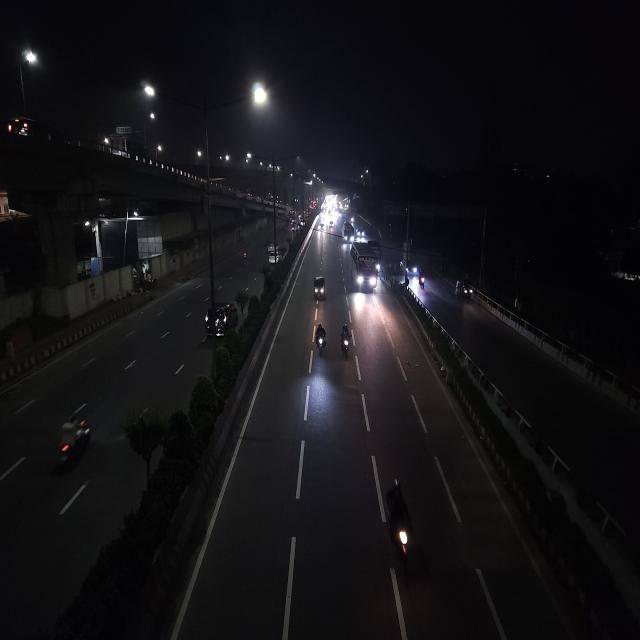bus: (349, 240, 380, 296), (342, 222, 354, 246)
car: (202, 294, 241, 342), (268, 250, 280, 266)
cng: (312, 274, 328, 304), (453, 277, 472, 300), (268, 242, 276, 252)
motorcycle: (380, 474, 418, 580), (338, 320, 356, 361), (311, 321, 330, 357), (240, 247, 250, 264), (418, 274, 426, 290)
